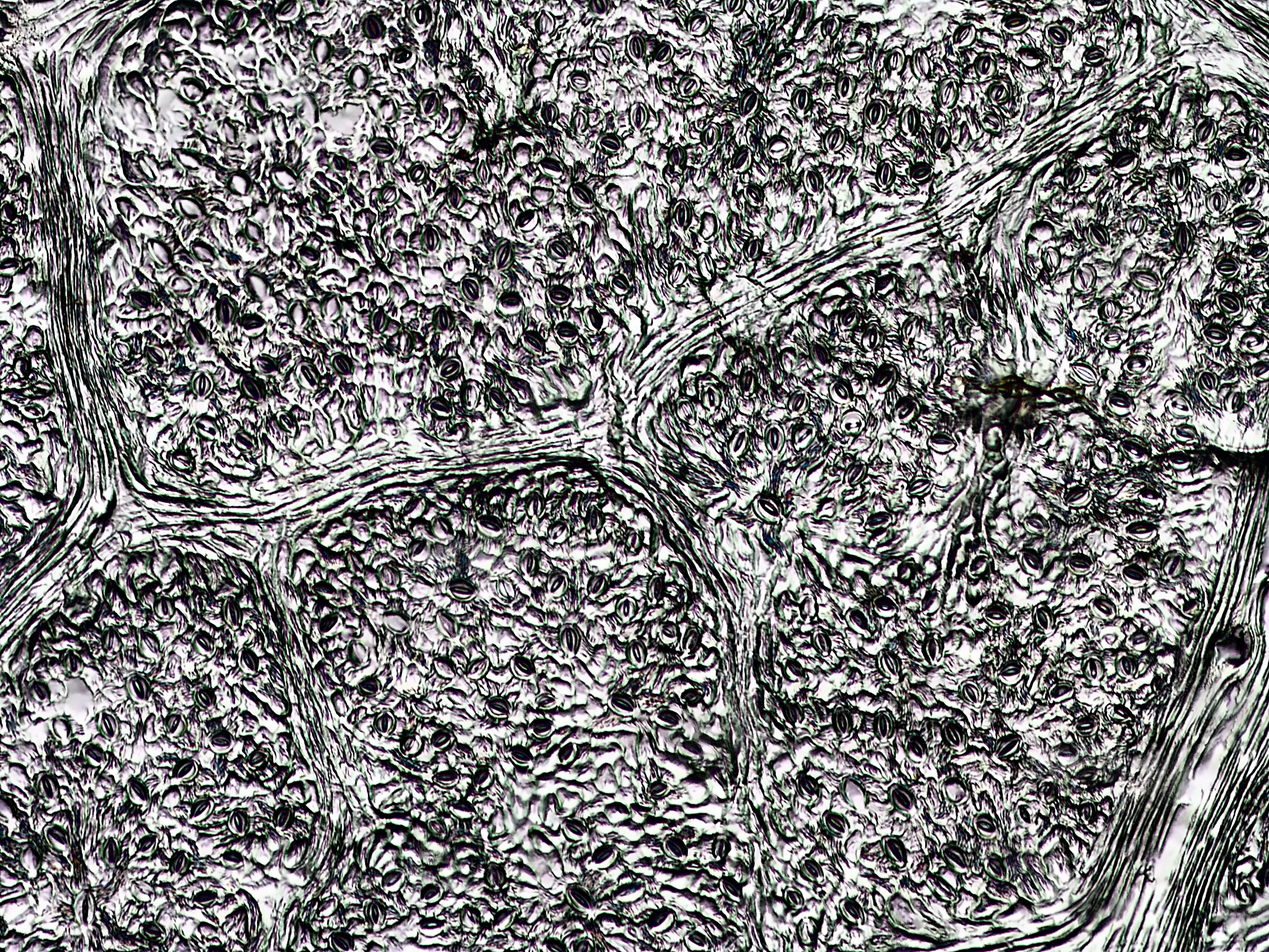stomata: (837, 773, 870, 811), (562, 880, 596, 914), (750, 494, 785, 526), (71, 892, 101, 928), (42, 825, 74, 858), (880, 834, 910, 869), (938, 843, 970, 875), (292, 359, 324, 391), (429, 610, 460, 643), (236, 372, 266, 406), (928, 875, 963, 904), (666, 197, 695, 232), (1067, 361, 1102, 389), (871, 648, 901, 680), (843, 608, 875, 638), (135, 630, 165, 661), (363, 134, 396, 162), (246, 354, 284, 378), (920, 632, 946, 667), (715, 875, 745, 905), (169, 196, 205, 221), (1190, 117, 1219, 148), (610, 882, 649, 905), (1029, 603, 1057, 635), (166, 449, 198, 477), (145, 238, 177, 266), (482, 859, 509, 892), (361, 898, 388, 931), (989, 658, 1023, 684), (979, 602, 1014, 627), (604, 691, 639, 716), (557, 622, 582, 657), (800, 167, 828, 198), (1116, 436, 1149, 462), (234, 314, 268, 339), (1015, 549, 1044, 578), (805, 339, 833, 369), (220, 596, 244, 631), (190, 415, 220, 443), (567, 180, 595, 210), (532, 9, 562, 37), (1040, 680, 1078, 702), (761, 423, 787, 455), (1160, 548, 1186, 580), (59, 648, 85, 680), (182, 319, 208, 351), (170, 146, 202, 172), (1104, 391, 1140, 414), (1173, 222, 1196, 258), (830, 703, 853, 739), (187, 240, 220, 265), (1222, 142, 1251, 170), (808, 627, 836, 656), (891, 397, 921, 424), (127, 674, 154, 704), (543, 237, 573, 264), (1108, 149, 1139, 175), (19, 846, 45, 877), (124, 776, 150, 807), (242, 91, 273, 117), (871, 363, 896, 395), (992, 735, 1024, 760), (977, 855, 1009, 880), (697, 121, 722, 153), (133, 152, 158, 184), (872, 708, 894, 744), (593, 912, 626, 936), (125, 290, 158, 314), (841, 460, 869, 488), (457, 905, 485, 933), (374, 564, 402, 592), (791, 423, 818, 452), (426, 815, 455, 842), (36, 774, 63, 803), (373, 98, 400, 127), (1196, 324, 1230, 347), (1161, 395, 1195, 418), (797, 596, 823, 626), (940, 720, 966, 750), (241, 273, 271, 299), (862, 510, 895, 533), (135, 920, 168, 943), (838, 897, 865, 925), (151, 49, 179, 76), (1070, 264, 1096, 293), (779, 657, 808, 683), (327, 350, 356, 376), (519, 328, 545, 357), (796, 858, 826, 883), (660, 836, 690, 861), (99, 625, 124, 655), (580, 306, 605, 336), (960, 293, 982, 327), (726, 427, 750, 458), (780, 696, 804, 727), (522, 488, 545, 520), (309, 35, 332, 67), (1061, 162, 1087, 190), (1166, 164, 1192, 192), (236, 648, 262, 676), (216, 119, 242, 147), (1169, 422, 1202, 444), (443, 579, 476, 601), (935, 77, 957, 110), (1232, 211, 1261, 236), (955, 678, 984, 703), (889, 786, 914, 815), (100, 837, 125, 866), (96, 711, 120, 741), (583, 503, 604, 537), (428, 767, 460, 789), (446, 796, 478, 818), (966, 554, 992, 581), (584, 572, 610, 599), (508, 653, 535, 679), (483, 696, 511, 721), (624, 640, 649, 668), (190, 685, 218, 710), (144, 343, 172, 368), (1034, 777, 1058, 806), (188, 631, 217, 655), (552, 321, 581, 345), (492, 240, 516, 269), (737, 89, 761, 118), (795, 917, 818, 947), (407, 698, 437, 721), (872, 160, 895, 190), (910, 48, 933, 78), (175, 79, 205, 102), (1064, 553, 1095, 575), (1088, 596, 1119, 618), (267, 167, 298, 189), (904, 736, 929, 763), (372, 708, 397, 735), (170, 757, 197, 782), (26, 682, 53, 707), (511, 209, 538, 234), (344, 65, 369, 92), (1119, 565, 1147, 589), (474, 516, 506, 537), (419, 882, 447, 906), (999, 14, 1031, 35), (899, 104, 920, 136), (863, 97, 884, 129), (861, 323, 884, 352), (1213, 291, 1242, 314), (224, 173, 253, 196), (1123, 521, 1158, 540), (926, 432, 959, 452), (905, 475, 935, 497), (1210, 257, 1240, 279), (709, 833, 731, 863), (645, 574, 665, 607), (321, 295, 343, 325), (425, 398, 456, 419), (625, 32, 646, 63), (1079, 657, 1105, 682), (794, 774, 820, 799), (242, 220, 268, 245), (686, 11, 712, 36), (416, 91, 441, 117), (409, 2, 434, 28), (1204, 188, 1228, 215), (1022, 511, 1049, 535), (1072, 714, 1099, 738), (1012, 801, 1036, 828), (681, 928, 708, 952), (398, 496, 425, 520), (397, 733, 424, 757), (391, 330, 415, 357), (974, 53, 998, 80), (413, 917, 447, 936), (959, 361, 987, 384), (665, 260, 688, 288), (1060, 487, 1092, 507), (650, 707, 682, 727), (187, 888, 219, 908), (14, 402, 46, 422), (271, 803, 293, 832), (666, 142, 688, 171), (1237, 332, 1267, 353), (1042, 24, 1072, 45), (1129, 271, 1162, 290), (1086, 222, 1111, 247), (431, 656, 456, 681), (470, 766, 495, 791), (188, 798, 213, 823), (330, 152, 355, 177), (361, 14, 386, 39), (1129, 116, 1155, 140), (646, 907, 672, 931), (741, 183, 767, 207), (1032, 421, 1055, 448), (560, 818, 587, 841), (622, 528, 645, 555), (545, 572, 568, 599), (462, 658, 489, 681), (205, 731, 232, 754), (164, 713, 187, 740), (822, 126, 845, 153), (596, 133, 623, 156), (590, 40, 613, 67), (273, 0, 300, 23), (1122, 355, 1153, 375), (673, 739, 704, 759), (699, 251, 719, 282), (387, 48, 418, 68), (901, 633, 923, 661), (444, 686, 472, 708), (545, 284, 573, 306), (790, 86, 812, 114), (834, 72, 856, 100), (1071, 765, 1100, 786), (673, 398, 697, 423), (1087, 446, 1112, 470), (871, 594, 896, 618), (780, 886, 804, 911), (432, 514, 456, 539), (326, 932, 356, 952), (134, 833, 158, 858), (82, 744, 107, 768), (952, 24, 976, 49), (729, 147, 753, 172), (461, 73, 486, 97), (1040, 247, 1063, 273), (167, 852, 190, 878), (821, 813, 848, 835), (588, 845, 615, 867), (382, 611, 409, 633), (217, 295, 235, 328), (742, 236, 764, 263), (1067, 436, 1086, 467), (488, 907, 516, 928), (421, 224, 442, 252), (1124, 213, 1148, 237), (1054, 743, 1079, 766), (615, 595, 638, 620), (227, 810, 250, 835), (769, 48, 794, 71), (828, 380, 854, 402), (837, 304, 859, 330), (167, 276, 193, 298), (430, 306, 452, 332), (922, 357, 941, 387), (628, 101, 647, 131), (988, 290, 1009, 317), (1098, 300, 1125, 321), (1116, 652, 1137, 679), (971, 816, 998, 837), (677, 687, 704, 708), (369, 307, 390, 334), (231, 432, 259, 452), (885, 46, 905, 74), (430, 729, 454, 752), (317, 611, 341, 634), (315, 895, 338, 919), (48, 716, 71, 740), (677, 74, 701, 97), (567, 108, 590, 132), (288, 298, 307, 327), (460, 381, 479, 410), (153, 596, 175, 621), (764, 136, 789, 158), (537, 100, 558, 126), (567, 72, 593, 93), (900, 314, 918, 344), (841, 42, 868, 62), (1099, 329, 1127, 348), (519, 550, 538, 578), (0, 201, 19, 229), (485, 387, 508, 410), (700, 387, 722, 411), (1127, 631, 1151, 653), (191, 373, 213, 397), (438, 357, 462, 379), (841, 413, 866, 434), (1222, 389, 1243, 414), (380, 870, 405, 891), (274, 413, 299, 434), (311, 581, 340, 599), (535, 156, 564, 174), (497, 292, 523, 312), (444, 184, 464, 210), (930, 125, 950, 151), (460, 277, 479, 304), (907, 164, 934, 183), (471, 157, 490, 184), (1237, 175, 1259, 198), (244, 749, 267, 771), (1083, 43, 1106, 65), (986, 82, 1009, 104), (819, 14, 841, 37), (735, 24, 758, 46), (787, 390, 808, 414), (221, 848, 245, 869), (1108, 702, 1133, 722), (1077, 800, 1097, 825), (295, 245, 320, 265), (566, 488, 584, 515), (406, 537, 428, 559), (980, 113, 1002, 135), (1246, 242, 1269, 263), (1198, 369, 1219, 392), (0, 257, 23, 278), (507, 745, 531, 765), (357, 677, 381, 697), (224, 12, 248, 32), (681, 627, 698, 655), (643, 757, 662, 782), (1017, 47, 1042, 66), (309, 191, 328, 216), (767, 362, 788, 384), (919, 593, 941, 614), (0, 482, 22, 503), (609, 273, 631, 294), (778, 348, 798, 371), (557, 742, 577, 765), (1236, 880, 1256, 903), (1166, 451, 1193, 468), (527, 719, 554, 736), (532, 693, 559, 710), (896, 561, 917, 582), (548, 523, 568, 545), (645, 780, 668, 799), (109, 341, 132, 360), (873, 276, 894, 296), (658, 622, 678, 643), (378, 185, 399, 205), (1137, 487, 1160, 505), (1250, 359, 1269, 380), (1059, 654, 1083, 670), (652, 44, 671, 64), (740, 369, 755, 394), (408, 163, 427, 181), (541, 937, 565, 951), (13, 358, 28, 380)
